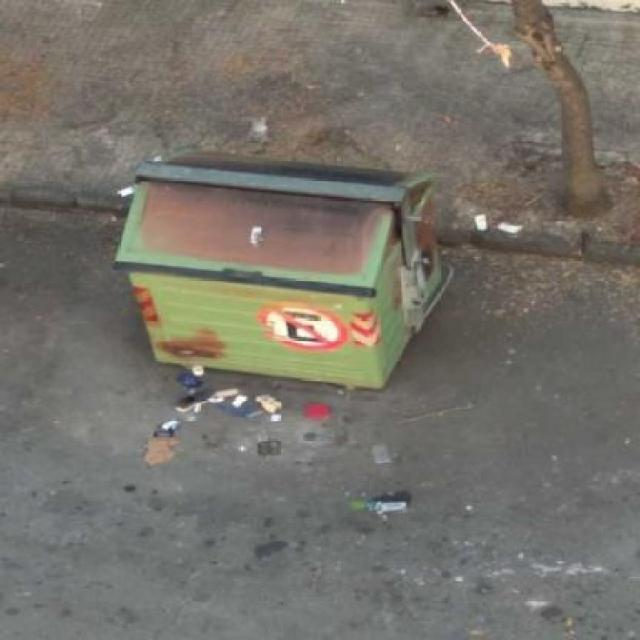garbage: (137, 360, 468, 564), (426, 3, 520, 84), (77, 174, 182, 217), (455, 215, 562, 254), (233, 101, 299, 164)
